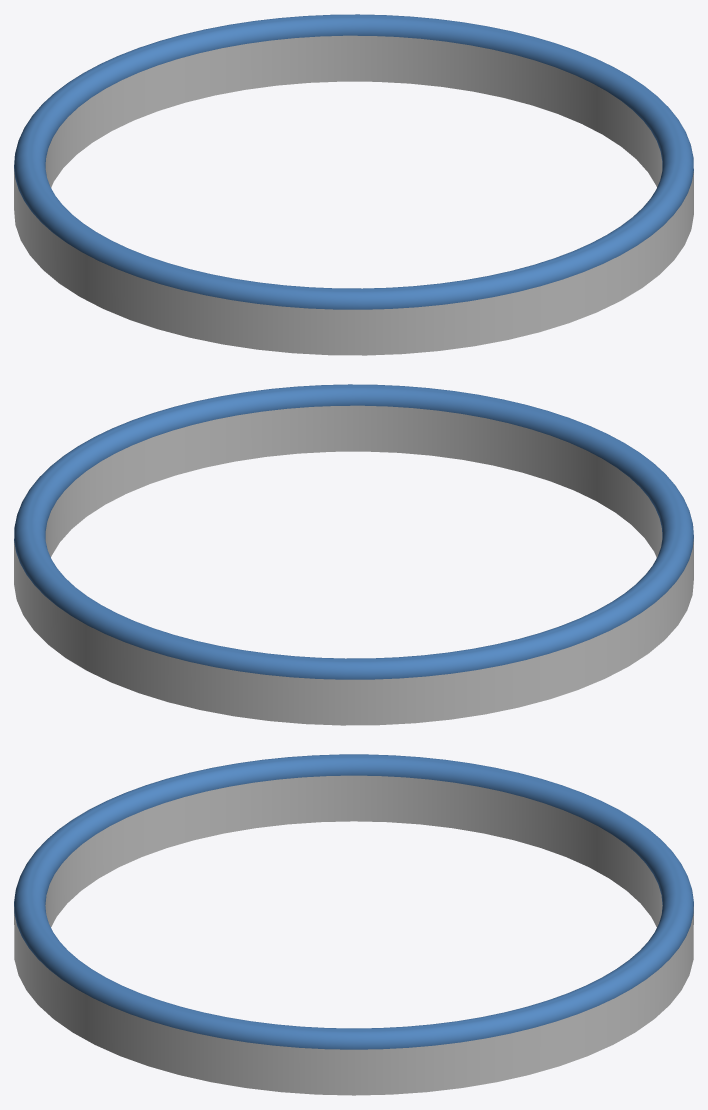
The model's file is ARCADA001 - Part 1 (9).obj.
The picture shows the model from 3 angles, top to bottom: view 1: azimuth 30°, elevation 25°; view 2: azimuth 150°, elevation 25°; view 3: azimuth 270°, elevation 25°; orthographic projection.
Parts seen in each view (by area): view 1: mesh2, mesh0, mesh5, mesh3, mesh4; view 2: mesh2, mesh0, mesh5, mesh3, mesh4; view 3: mesh2, mesh0, mesh5, mesh3, mesh4.
Boxes of the visible parts, x1=… form: mesh2: x1=14, y1=169, x2=693, y2=355; mesh0: x1=45, y1=35, x2=662, y2=187; mesh5: x1=14, y1=14, x2=693, y2=309; mesh3: x1=31, y1=17, x2=676, y2=289; mesh4: x1=27, y1=15, x2=679, y2=291; mesh2: x1=14, y1=539, x2=693, y2=725; mesh0: x1=45, y1=405, x2=662, y2=557; mesh5: x1=14, y1=384, x2=693, y2=679; mesh3: x1=31, y1=387, x2=676, y2=659; mesh4: x1=28, y1=385, x2=680, y2=661; mesh2: x1=14, y1=907, x2=693, y2=1095; mesh0: x1=45, y1=775, x2=662, y2=926; mesh5: x1=14, y1=754, x2=693, y2=1049; mesh3: x1=31, y1=757, x2=676, y2=1029; mesh4: x1=27, y1=755, x2=680, y2=1031.
Bounding box in the file's own units: 0.148 × 0.014 × 0.148.
